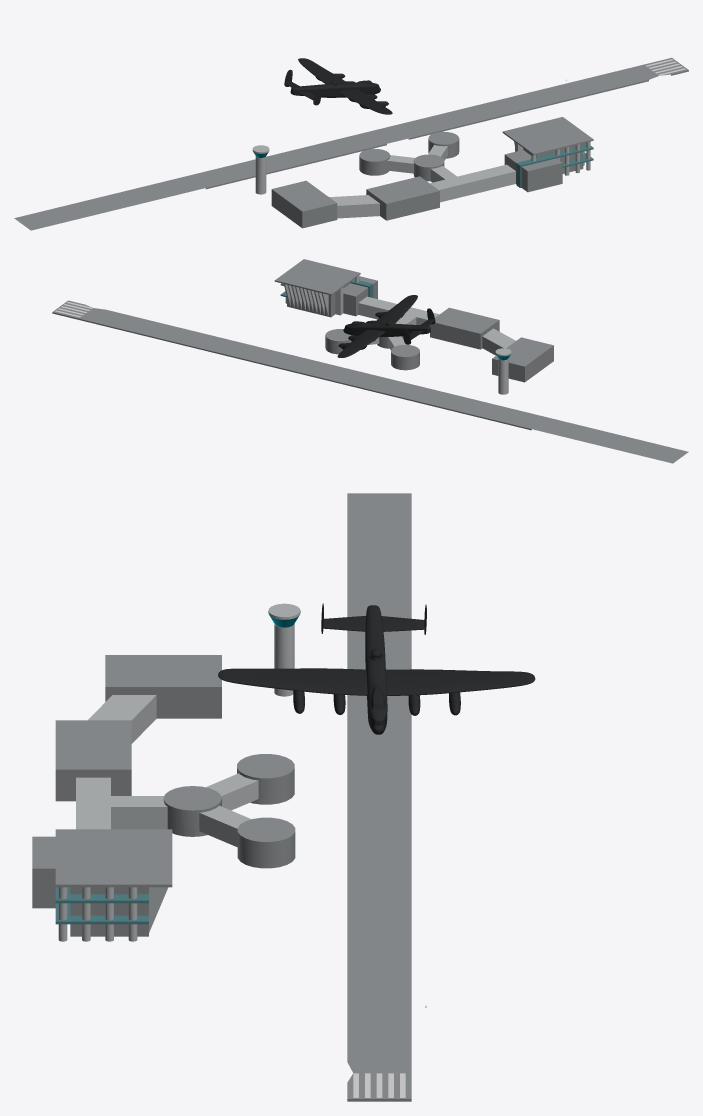
File: Hub.glb
3 views of the same model, one above another, from view 1: azimuth 30°, elevation 25°; view 2: azimuth 150°, elevation 25°; view 3: azimuth 270°, elevation 25° (orthographic). The views are drawn at different scales.
Visible parts, largest first — view 1: Mesh_Mesh_head_geo.001_lambert2SG.001_0, Airplane_Combined; view 2: Mesh_Mesh_head_geo.001_lambert2SG.001_0, Airplane_Combined; view 3: Mesh_Mesh_head_geo.001_lambert2SG.001_0, Airplane_Combined.
Boxes of the visible parts, left/top/right/bottom form: Mesh_Mesh_head_geo.001_lambert2SG.001_0: left=14, top=57, right=688, bottom=230; Airplane_Combined: left=284, top=58, right=392, bottom=114; Mesh_Mesh_head_geo.001_lambert2SG.001_0: left=52, top=259, right=688, bottom=463; Airplane_Combined: left=337, top=295, right=435, bottom=357; Mesh_Mesh_head_geo.001_lambert2SG.001_0: left=32, top=493, right=426, bottom=1101; Airplane_Combined: left=218, top=603, right=535, bottom=734.
Size of the model in its own units: 492 by 57.2 by 219.
2 materials, 1 textured.
